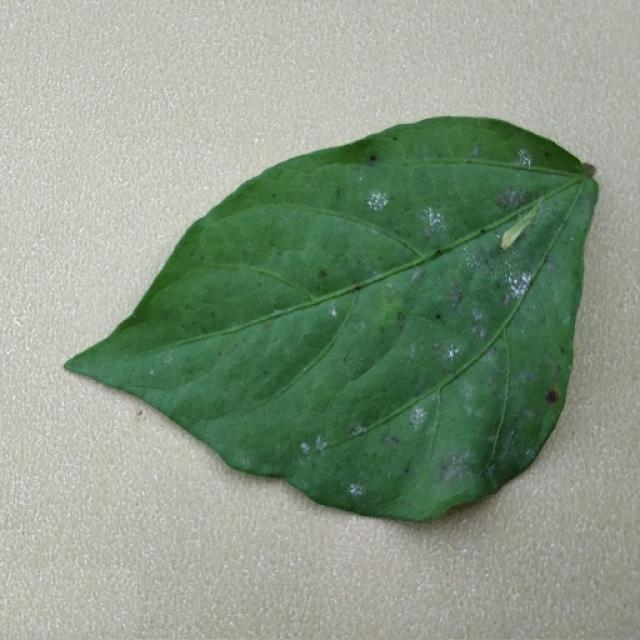Blackgram: (66, 119, 598, 521)
Powdery_Mildew: (456, 368, 489, 415), (362, 191, 400, 226), (439, 449, 474, 486), (504, 265, 533, 301), (495, 187, 529, 212), (228, 450, 263, 473), (153, 349, 183, 374), (423, 207, 444, 231), (447, 281, 464, 308), (408, 407, 426, 429), (382, 285, 399, 307), (515, 148, 533, 167), (470, 321, 487, 339), (380, 433, 399, 447), (226, 339, 241, 356), (444, 345, 459, 361), (410, 267, 425, 283), (349, 423, 366, 437), (471, 308, 485, 325), (411, 377, 425, 394), (501, 292, 516, 307), (550, 362, 562, 380), (315, 435, 328, 451), (348, 483, 363, 496), (546, 389, 559, 404), (521, 372, 534, 385), (469, 143, 481, 157), (523, 408, 535, 420), (300, 442, 311, 455), (525, 447, 536, 460), (545, 260, 556, 272), (329, 304, 338, 318), (318, 268, 328, 279), (396, 311, 406, 322), (487, 434, 498, 444), (357, 172, 366, 182), (368, 154, 378, 163), (263, 322, 270, 331), (435, 313, 442, 320), (149, 369, 155, 376), (354, 285, 361, 291), (210, 311, 215, 317)
